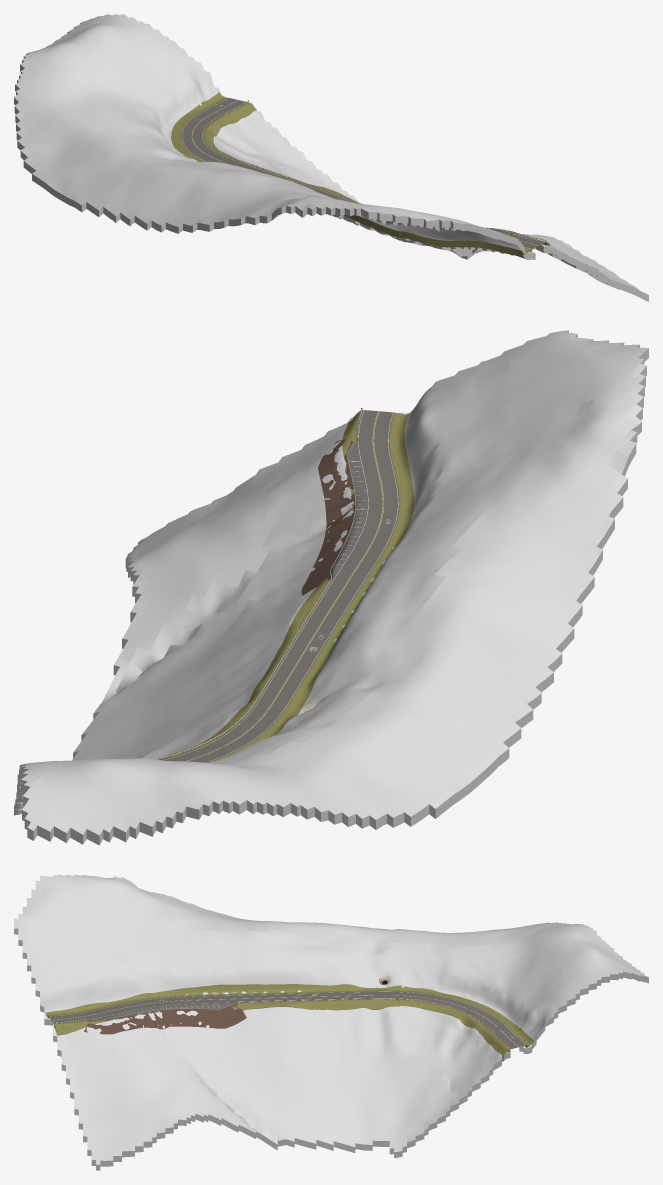
Rendered from conz_10.glb.
3 views of the same model, one above another, from view 1: azimuth 30°, elevation 25°; view 2: azimuth 150°, elevation 25°; view 3: azimuth 270°, elevation 25° (orthographic). The views are drawn at different scales.
Parts seen in each view (by area): view 1: terrain10, road10, verge10R, verge10L; view 2: terrain10, road10, verge10R, apron10_12, verge10L, lot10_12, paint_white10, paint_yellow10; view 3: terrain10, road10, verge10R, verge10L, apron10_12, lot10_12.
Part boxes in pixels (box(x1,y1,x2,y2)): terrain10: box(14, 14, 648, 301); road10: box(181, 97, 545, 249); verge10R: box(171, 92, 531, 258); verge10L: box(203, 102, 552, 254); terrain10: box(14, 330, 648, 845); road10: box(162, 410, 399, 762); verge10R: box(208, 412, 414, 762); apron10_12: box(301, 438, 355, 595); verge10L: box(159, 410, 362, 760); lot10_12: box(331, 438, 366, 579); paint_white10: box(163, 410, 398, 762); paint_yellow10: box(184, 411, 383, 761); terrain10: box(14, 874, 648, 1170); road10: box(48, 991, 526, 1049); verge10R: box(45, 984, 533, 1048); verge10L: box(54, 999, 510, 1061); apron10_12: box(84, 1003, 246, 1034); lot10_12: box(86, 1003, 236, 1020).
Size of the model in its own units: 188 by 96.66 by 294.
